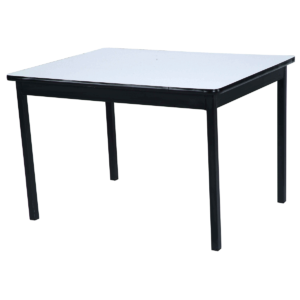m01: (6, 46, 295, 252)
